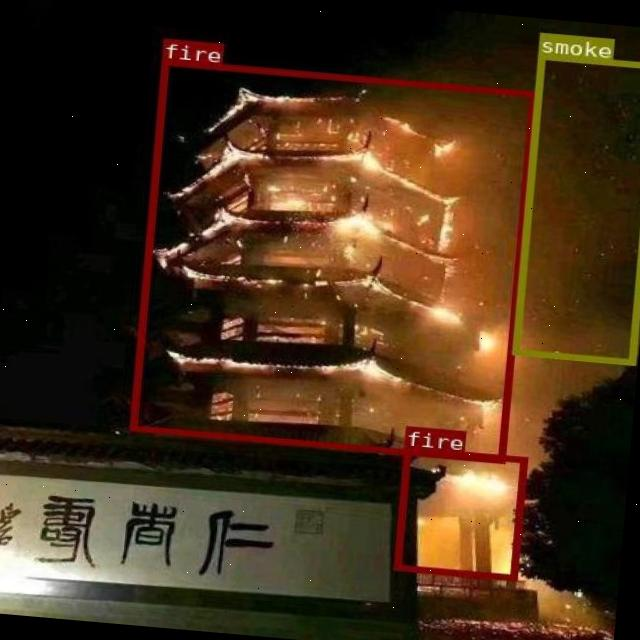fire: (129, 58, 535, 462), (393, 445, 526, 579)
smoke: (510, 52, 640, 364)
